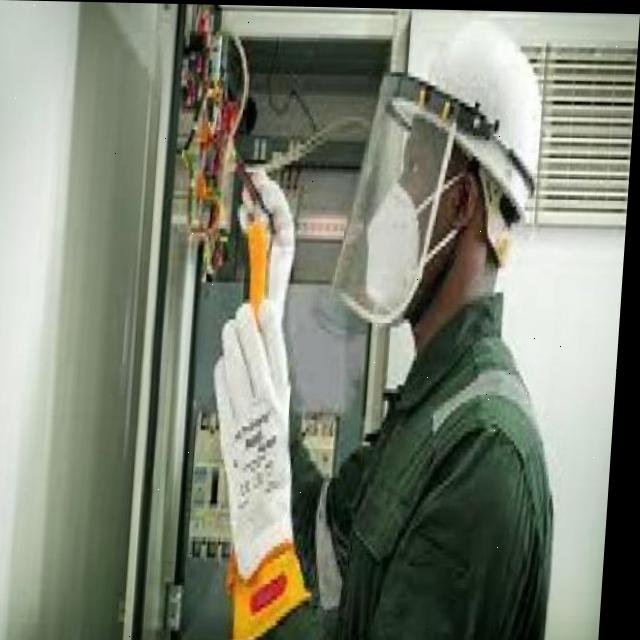Gloves: (200, 296, 334, 640)
Helmet: (408, 15, 550, 224)
